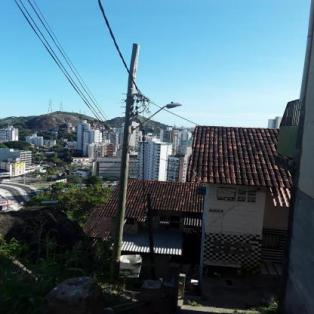Poste: (107, 41, 145, 282)
